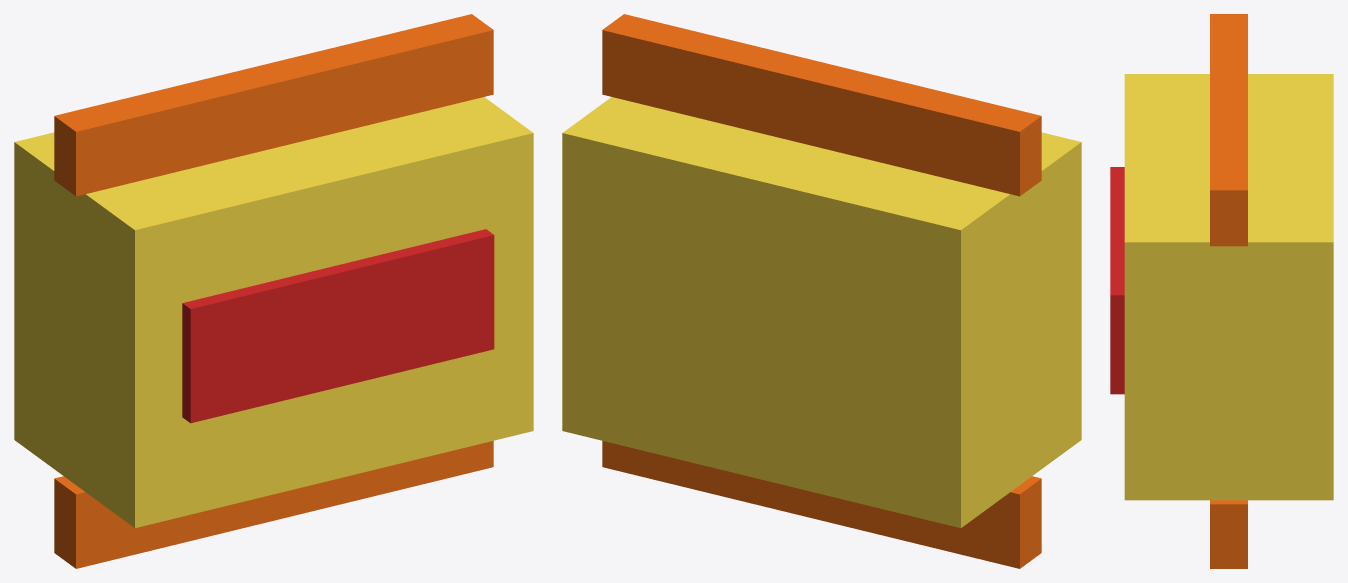
File: chips.fbx
3 views of the same model, side by side, from view 1: azimuth 30°, elevation 25°; view 2: azimuth 150°, elevation 25°; view 3: azimuth 270°, elevation 25° (orthographic). The views are drawn at different scales.
Parts seen in each view (by area): view 1: Chips; view 2: Chips; view 3: Chips.
Part boxes in pixels (<box>): Chips: <box>14,14,533,568</box>; Chips: <box>562,14,1081,568</box>; Chips: <box>1110,14,1333,568</box>.
Bounding box in the file's own units: 88 × 88 × 47.
